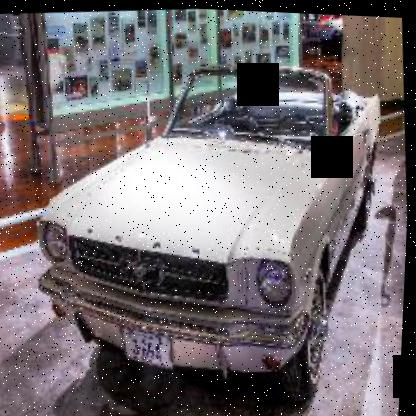not_emergency: (13, 29, 414, 415)
